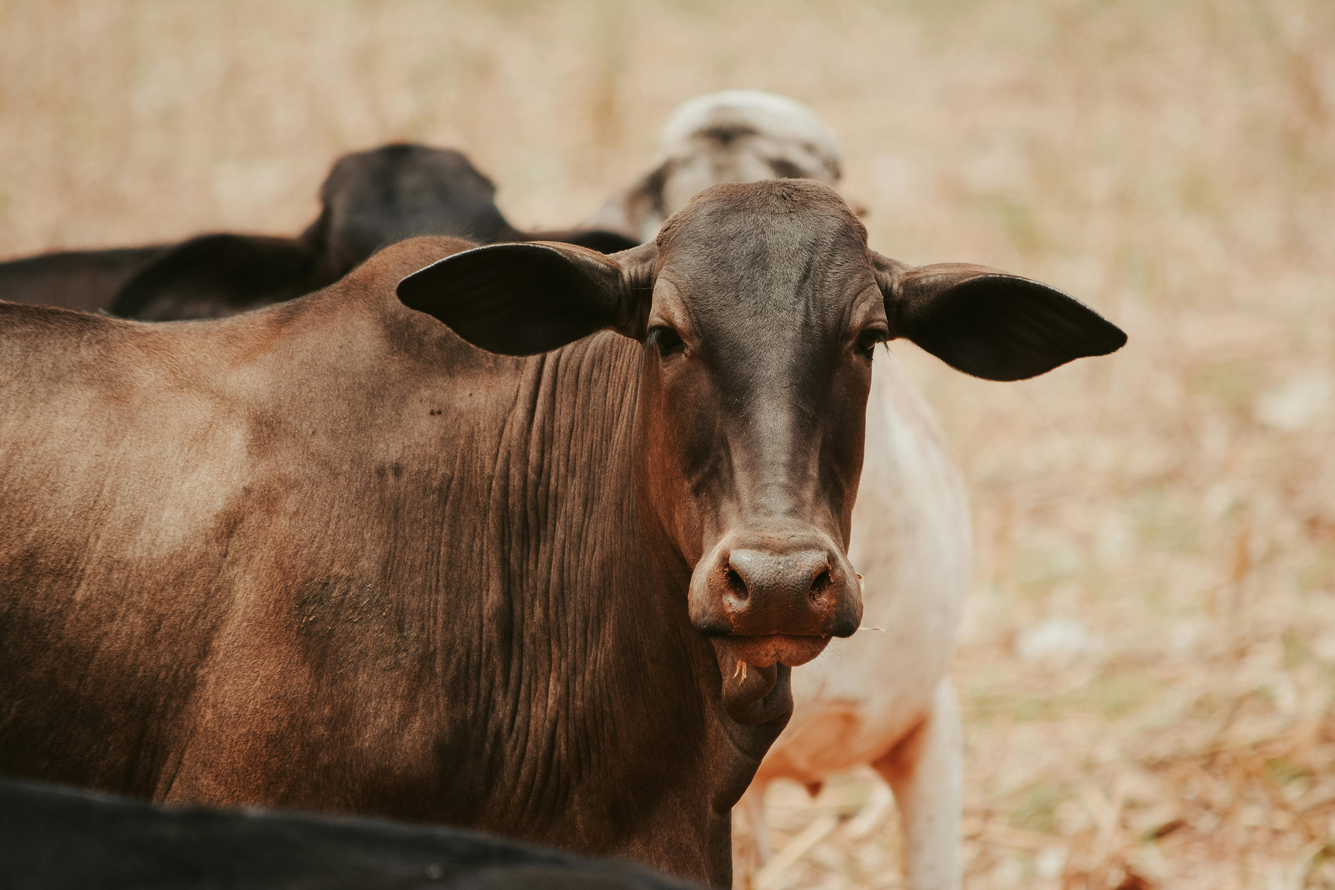bovino: (0, 184, 903, 884)
